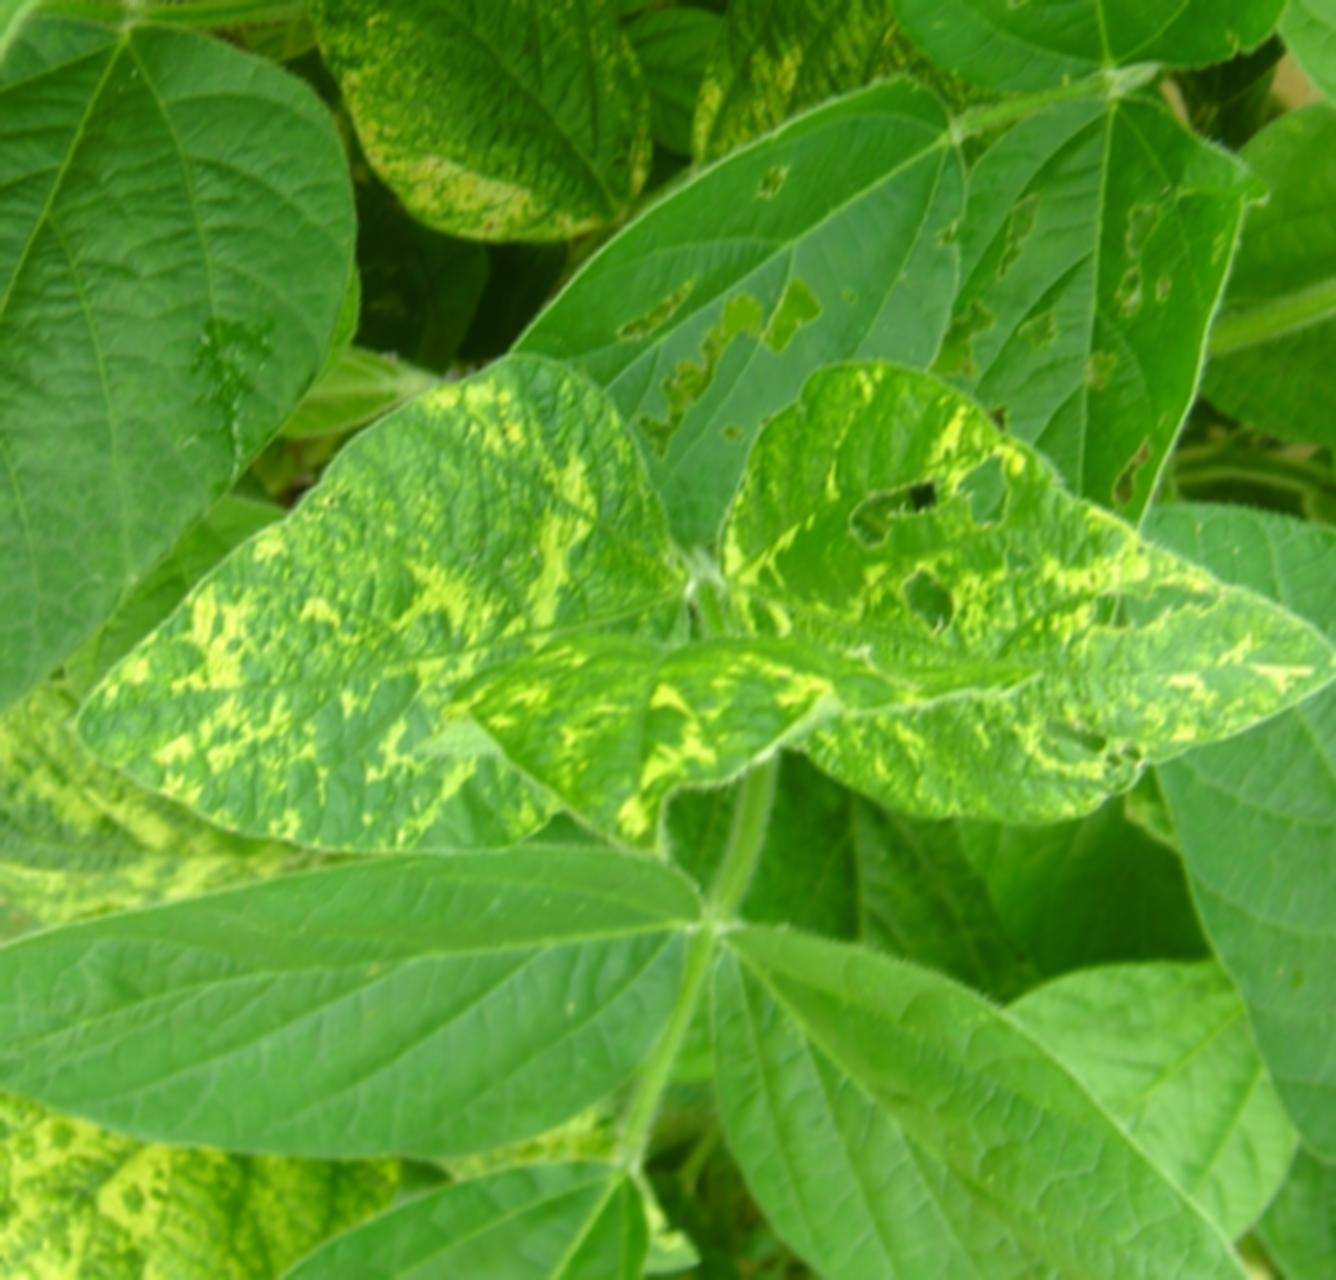Tomato leaf: (0, 841, 703, 1171)
Tomato leaf mosaic virus: (720, 354, 1336, 851), (107, 371, 679, 831)
